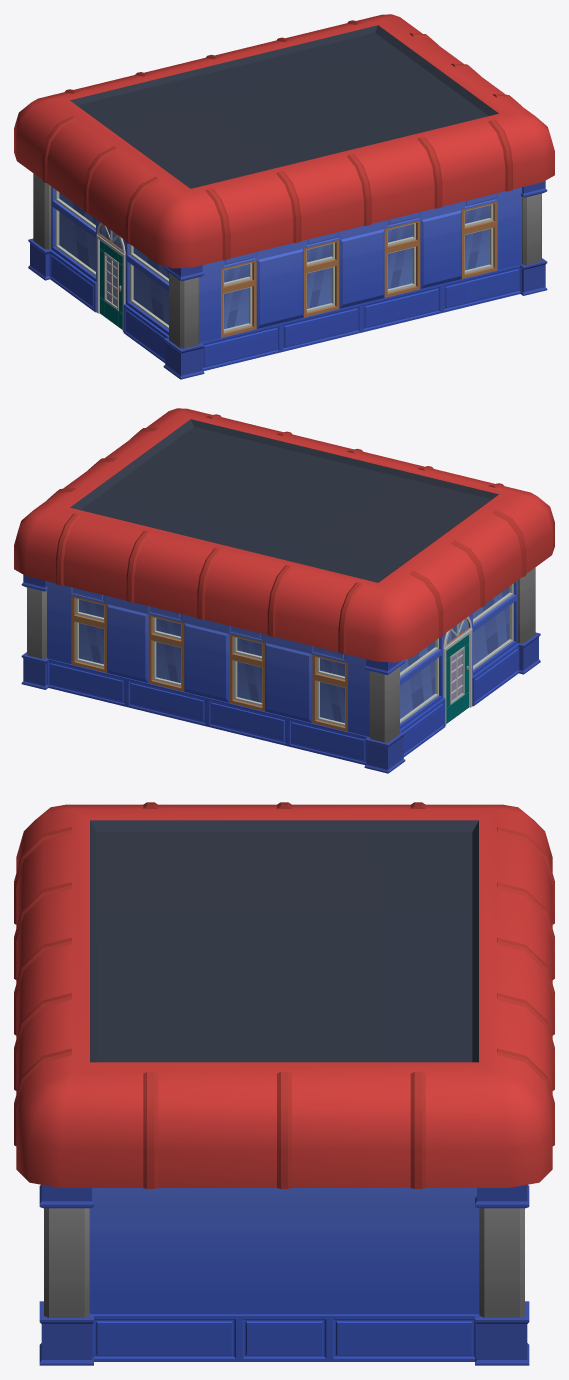
The model's file is Building_12_B.fbx.
The picture shows the model from 3 angles, top to bottom: view 1: azimuth 30°, elevation 25°; view 2: azimuth 150°, elevation 25°; view 3: azimuth 270°, elevation 25°; orthographic projection. The views are drawn at different scales.
Parts seen in each view (by area): view 1: Building_12_B; view 2: Building_12_B; view 3: Building_12_B.
Boxes of the visible parts, <box> form: Building_12_B: <box>14,14,554,379</box>; Building_12_B: <box>14,408,554,773</box>; Building_12_B: <box>14,802,554,1365</box>.
Bounding box in the file's own units: 1053 × 440 × 770.
